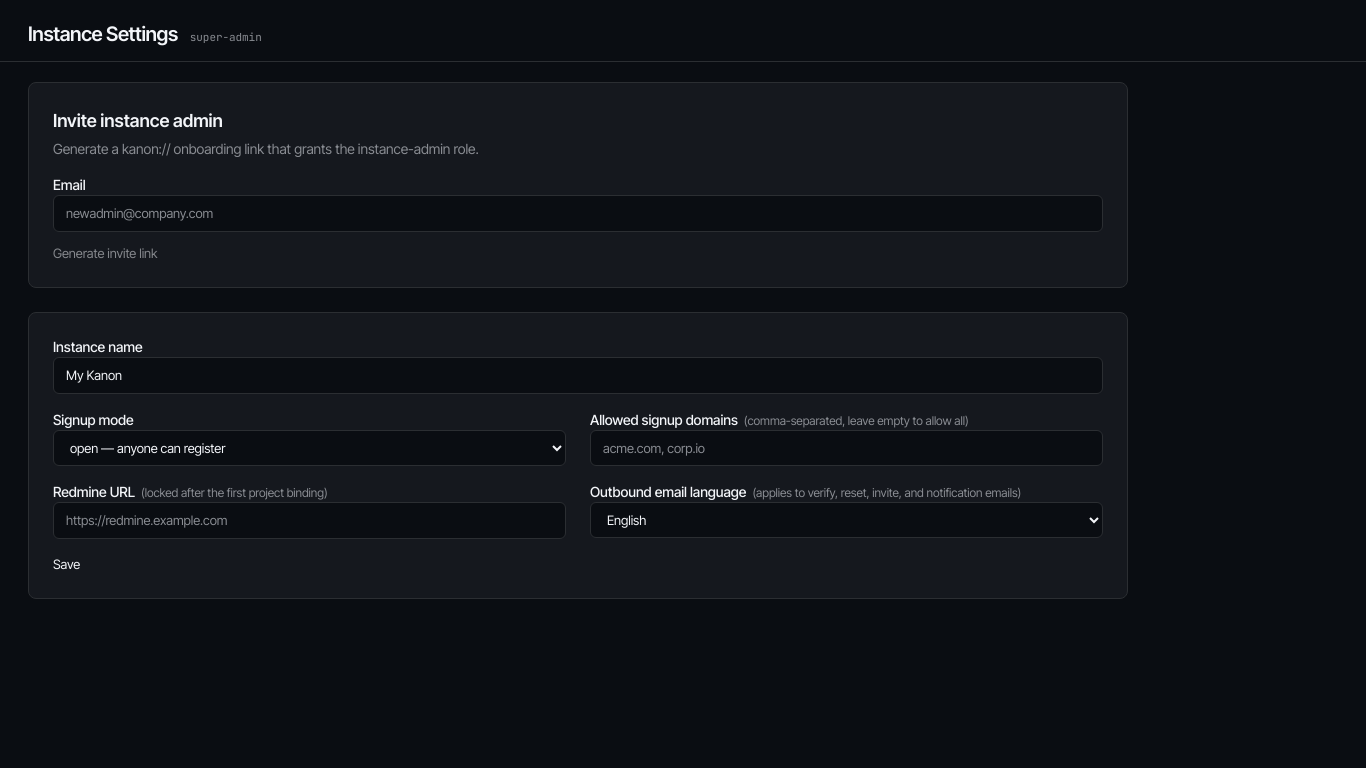
Scenario: AdminInstanceForm — invite-admin UI › (d) successful invite response displays the kanon:// link
Type "newadmin@corp.com" into the field with test id "invite-admin-email".
click(578, 213); type("newadmin@corp.com")  # box [53, 195, 1103, 232]
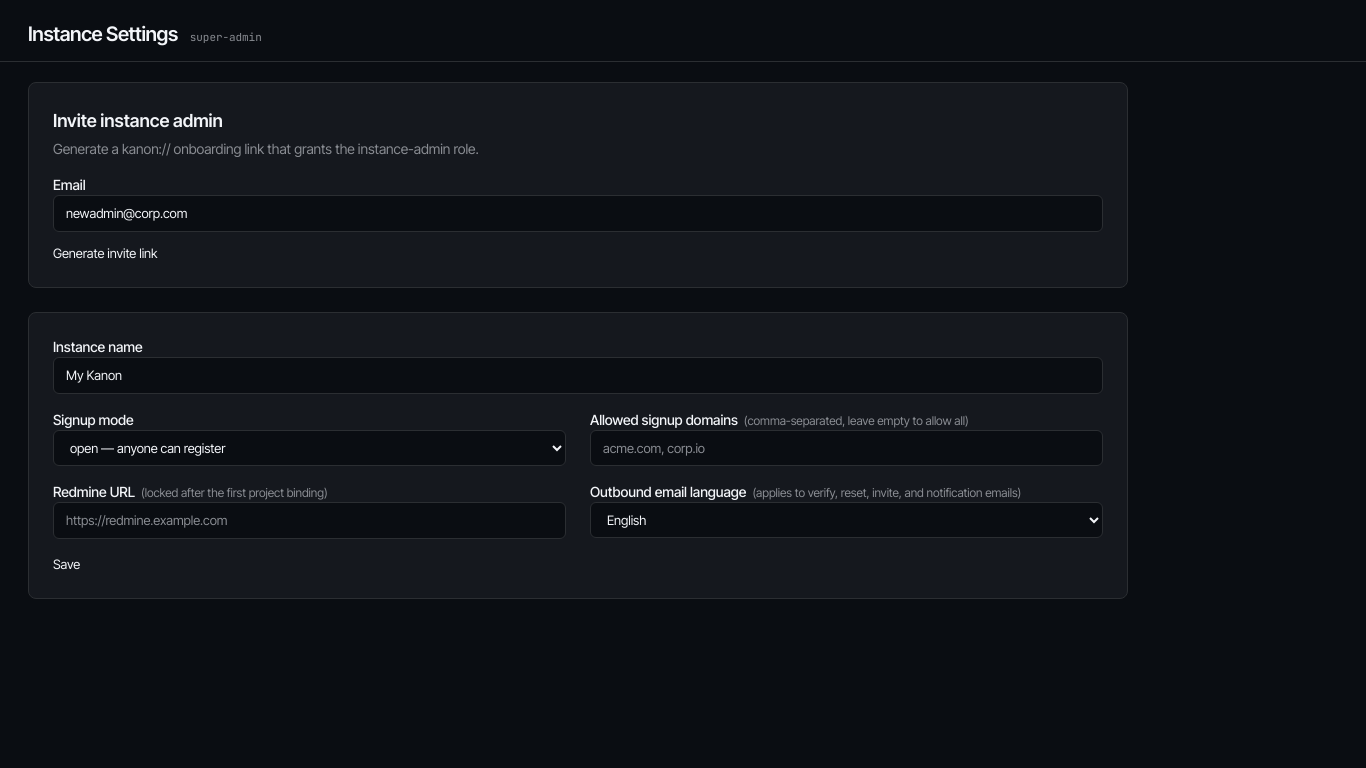
Click the button with test id "invite-admin-submit".
click(105, 253)  # box [53, 244, 157, 263]
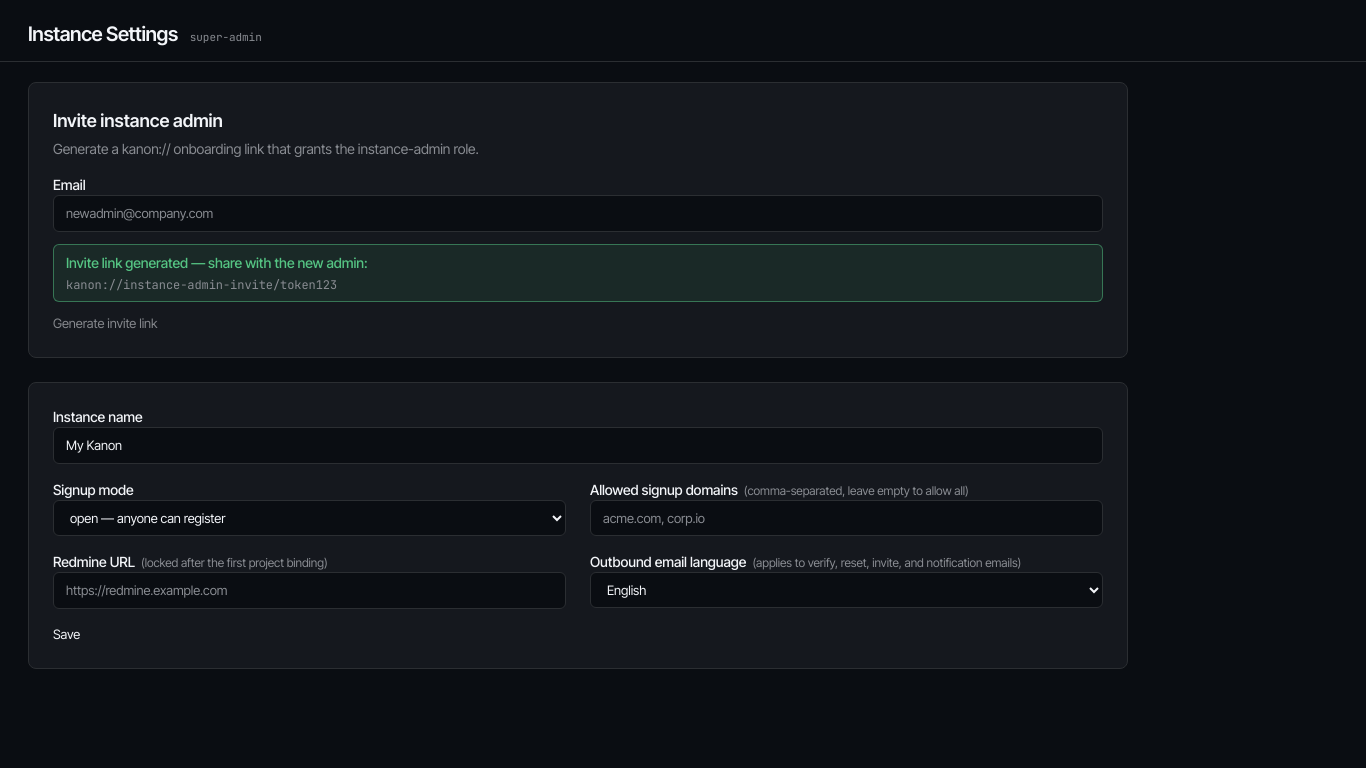
Expected: the element with test id "invite-admin-result" shows "kanon://", [66, 277, 337, 293]
